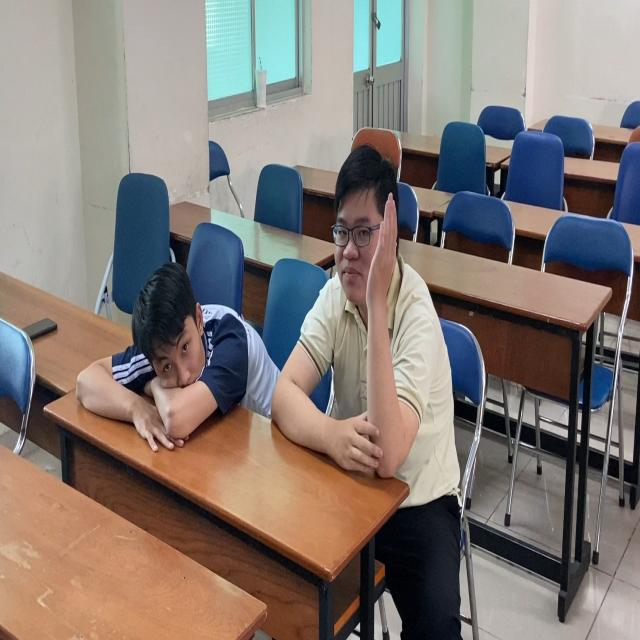raise_hand: (285, 138, 448, 480)
